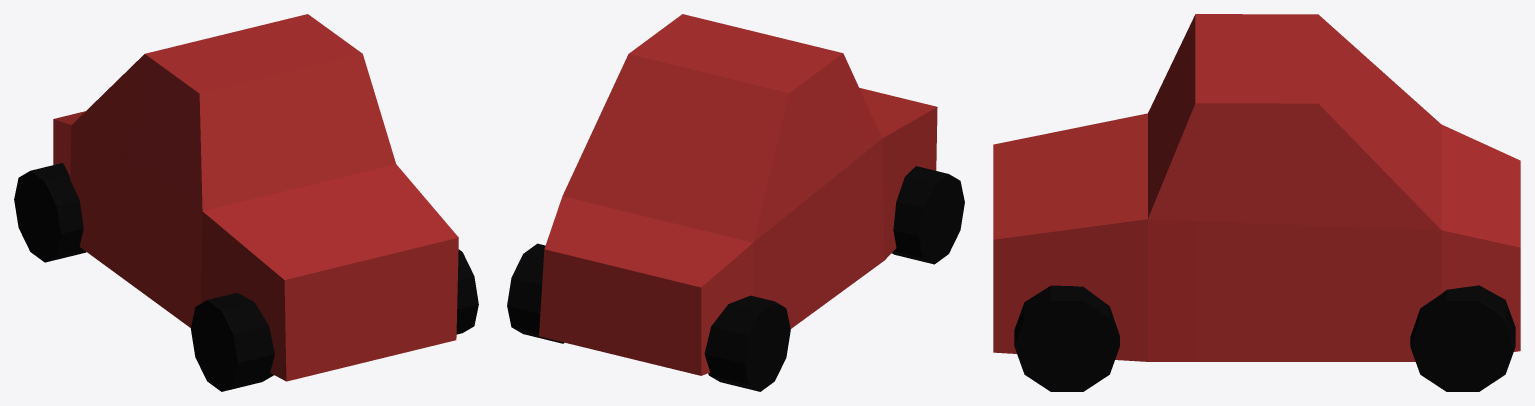
File: car.glb
3 views of the same model, side by side, from view 1: azimuth 30°, elevation 25°; view 2: azimuth 150°, elevation 25°; view 3: azimuth 270°, elevation 25° (orthographic). The views are drawn at different scales.
Parts seen in each view (by area): view 1: Car; view 2: Car; view 3: Car.
Boxes of the visible parts, left/top/right/bottom form: Car: left=14, top=14, right=478, bottom=391; Car: left=507, top=14, right=964, bottom=391; Car: left=993, top=14, right=1520, bottom=391.
Bounding box in the file's own units: 1.18 × 1.13 × 2.
Materials: 1 (1 with a texture image).
